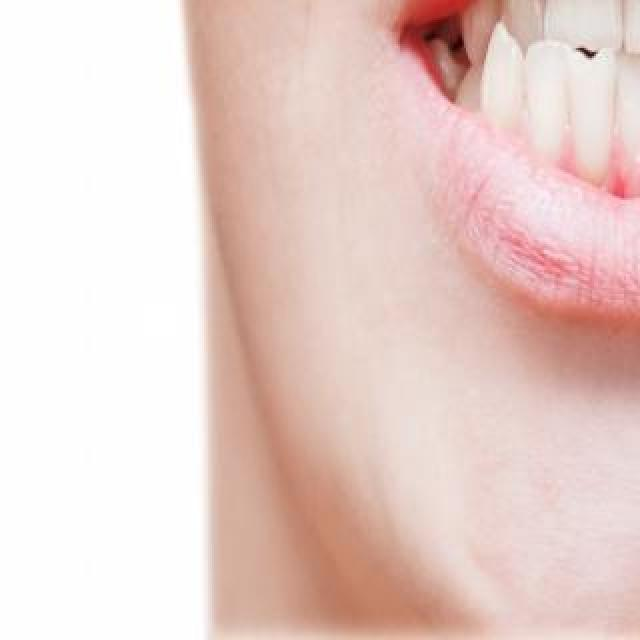maligned: (570, 45, 630, 191), (521, 33, 577, 165), (475, 16, 529, 134), (544, 0, 624, 56), (494, 0, 544, 42)
